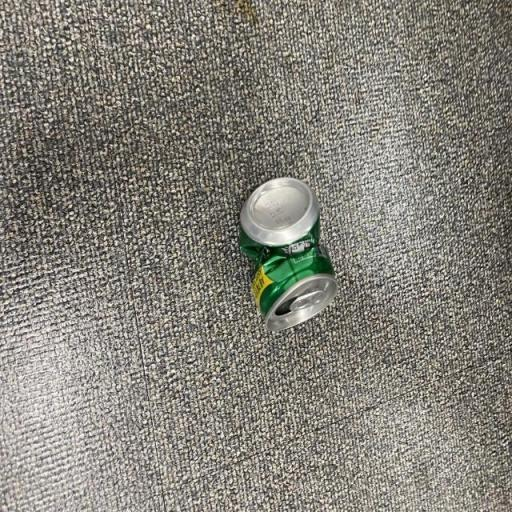metal: (210, 165, 352, 363)
